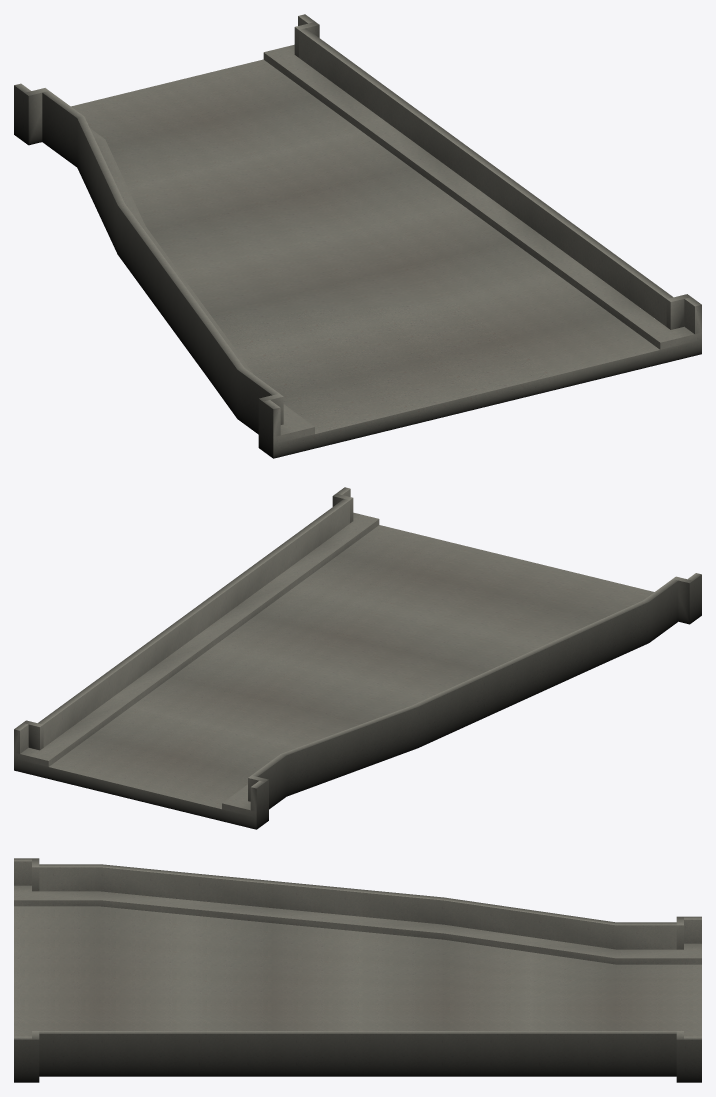
The model's file is 2_TO_3RAIL_SONE.glb.
The picture shows the model from 3 angles, top to bottom: view 1: azimuth 30°, elevation 25°; view 2: azimuth 150°, elevation 25°; view 3: azimuth 270°, elevation 25°; orthographic projection. The views are drawn at different scales.
Visible parts, largest first — view 1: konkuri; view 2: konkuri; view 3: konkuri.
Boxes of the visible parts, x1=… form: konkuri: x1=14, y1=14, x2=701, y2=458; konkuri: x1=14, y1=487, x2=701, y2=829; konkuri: x1=14, y1=858, x2=701, y2=1082.
Bounding box in the file's own units: 62.36 × 6.88 × 100.
Materials: 1 (1 with a texture image).
